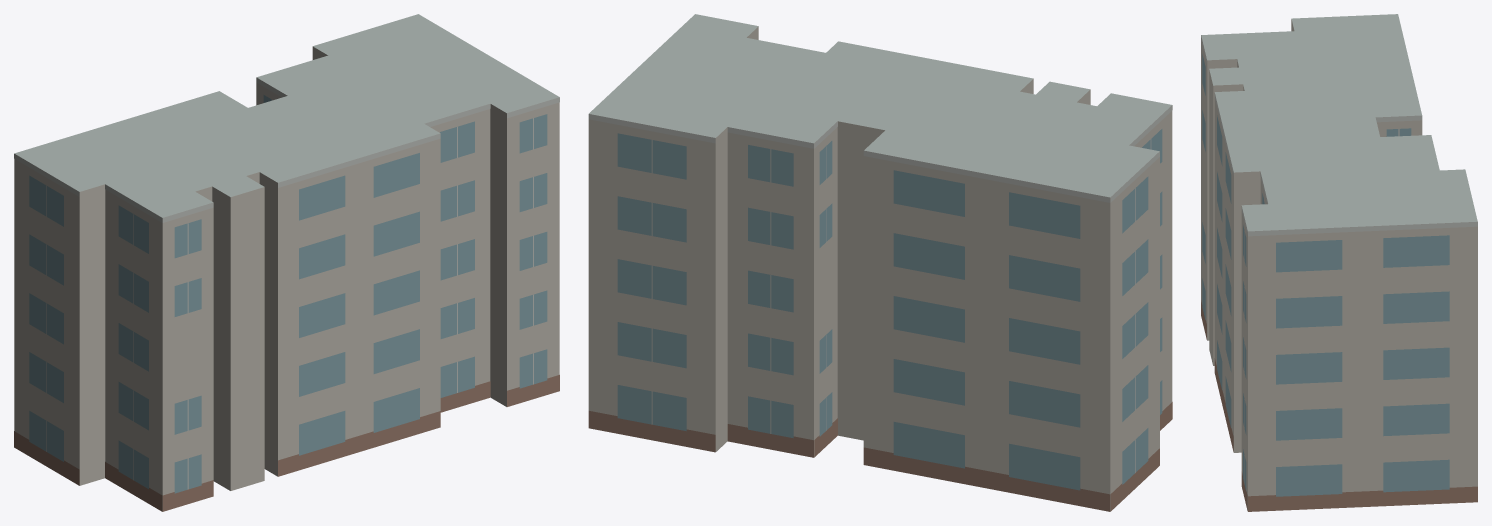
The model's file is survey-upis-32611086.glb.
The picture shows the model from 3 angles, left to right: view 1: azimuth 30°, elevation 25°; view 2: azimuth 150°, elevation 25°; view 3: azimuth 270°, elevation 25°; orthographic projection. The views are drawn at different scales.
Parts seen in each view (by area): view 1: survey-upis-32611086.tmp; view 2: survey-upis-32611086.tmp; view 3: survey-upis-32611086.tmp.
Part boxes in pixels (x1,y1,x2,y2): survey-upis-32611086.tmp: (14, 14, 559, 511); survey-upis-32611086.tmp: (588, 14, 1172, 511); survey-upis-32611086.tmp: (1201, 14, 1477, 511).
Size of the model in its own units: 23.12 by 13.9 by 12.44.
